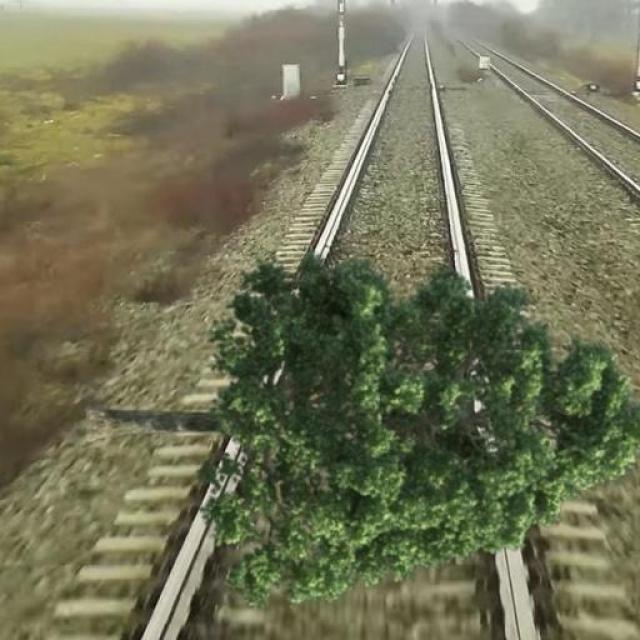Fallen Trees: (103, 258, 581, 572)
